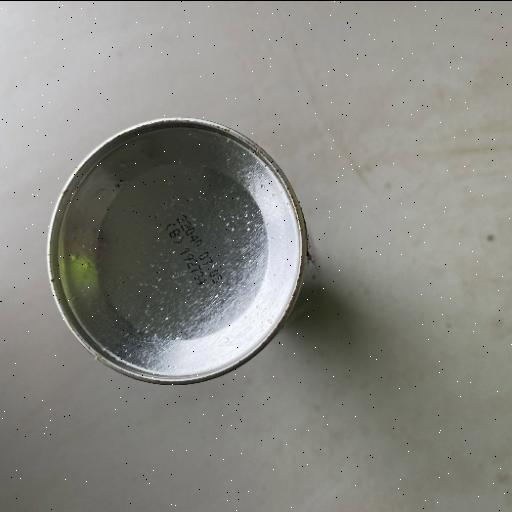Metal: (43, 113, 311, 387)
